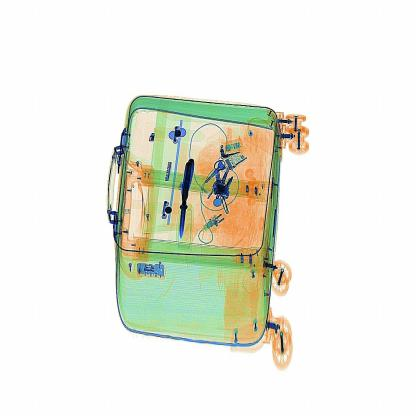gun: (174, 148, 205, 244)
